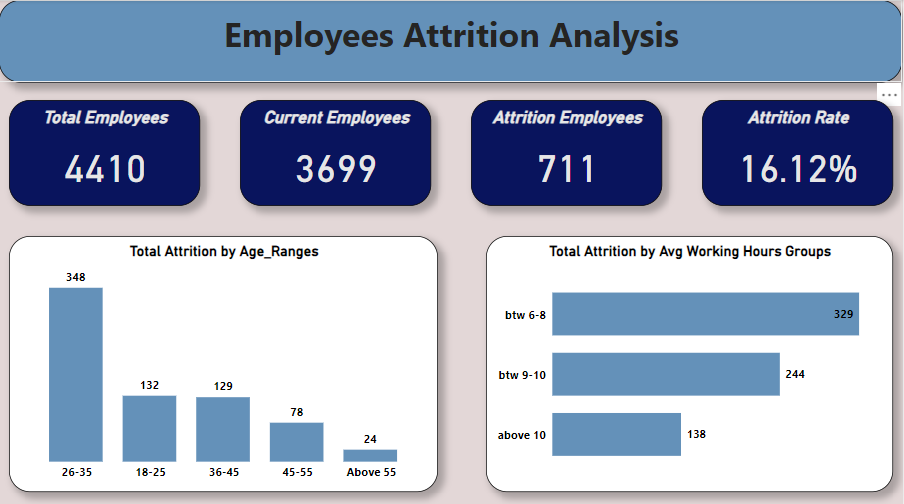

Layout of this report page (visuals, bound fields, positions):
{"tool":"powerbi","page":{"name":"Emlpoyees details","canvas":[1280,720],"ordinal":0},"visuals":[{"type":"textbox","box":[0,0,1280.2,116.6],"z":0},{"type":"card","title":"Total Employees","fields":{"Values":["Model_Measures.Total Employees"]},"box":[14.2,141.7,270.7,150.2],"z":1000},{"type":"card","title":"Attrition Employees","fields":{"Values":["Model_Measures.Total Attrition"]},"box":[669,141.7,270.7,150.2],"z":2000},{"type":"card","title":"Attrition Rate","fields":{"Values":["Model_Measures.Attrition Rate"]},"box":[996.4,141.7,270.7,150.2],"z":3000},{"type":"card","title":"Current Employees","fields":{"Values":["Model_Measures.Current Employees"]},"box":[341.6,141.7,270.7,150.2],"z":4000},{"type":"columnChart","fields":{"Category":["EMPLOYEEINFO.Age_Ranges"],"Y":["Model_Measures.Total Attrition"]},"box":[14.2,334.5,608,362.8],"z":5000},{"type":"barChart","fields":{"Y":["Model_Measures.Total Attrition"],"Category":["Fact_Table.Avg Working Hours Groups"]},"box":[690.2,334.5,576.9,362.8],"z":6000}]}

Visuals, with their boxes in screenshot pixels (x1, y1, x2, y2), scaled from the page's 1280x720 canvas onto the 904x504 screenshot:
textbox: rect(0, 0, 903, 82)
"Total Employees" card: rect(10, 99, 201, 204)
"Attrition Employees" card: rect(472, 99, 664, 204)
"Attrition Rate" card: rect(704, 99, 895, 204)
"Current Employees" card: rect(241, 99, 432, 204)
columnChart - EMPLOYEEINFO.Age_Ranges x Model_Measures.Total Attrition: rect(10, 234, 439, 488)
barChart - Model_Measures.Total Attrition x Fact_Table.Avg Working Hours Groups: rect(487, 234, 895, 488)
